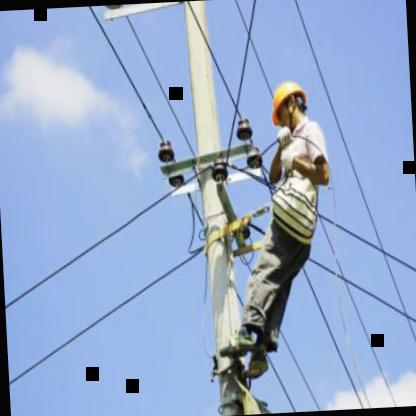helmet: (267, 77, 312, 136)
